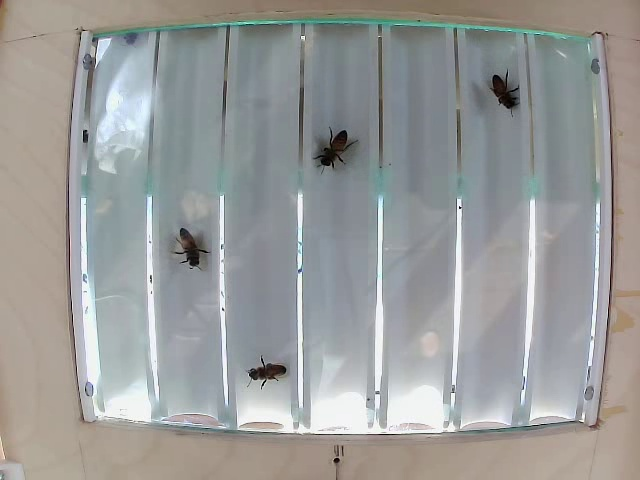bee: (481, 71, 522, 123), (166, 231, 211, 278), (253, 348, 287, 393), (316, 138, 352, 178)
